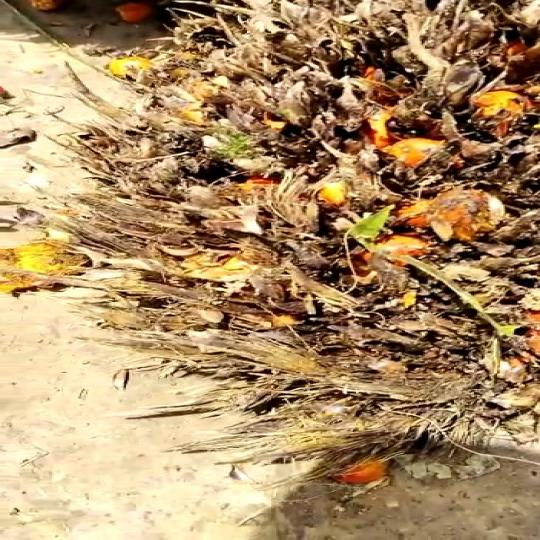terlalu masak: (87, 0, 540, 449)
